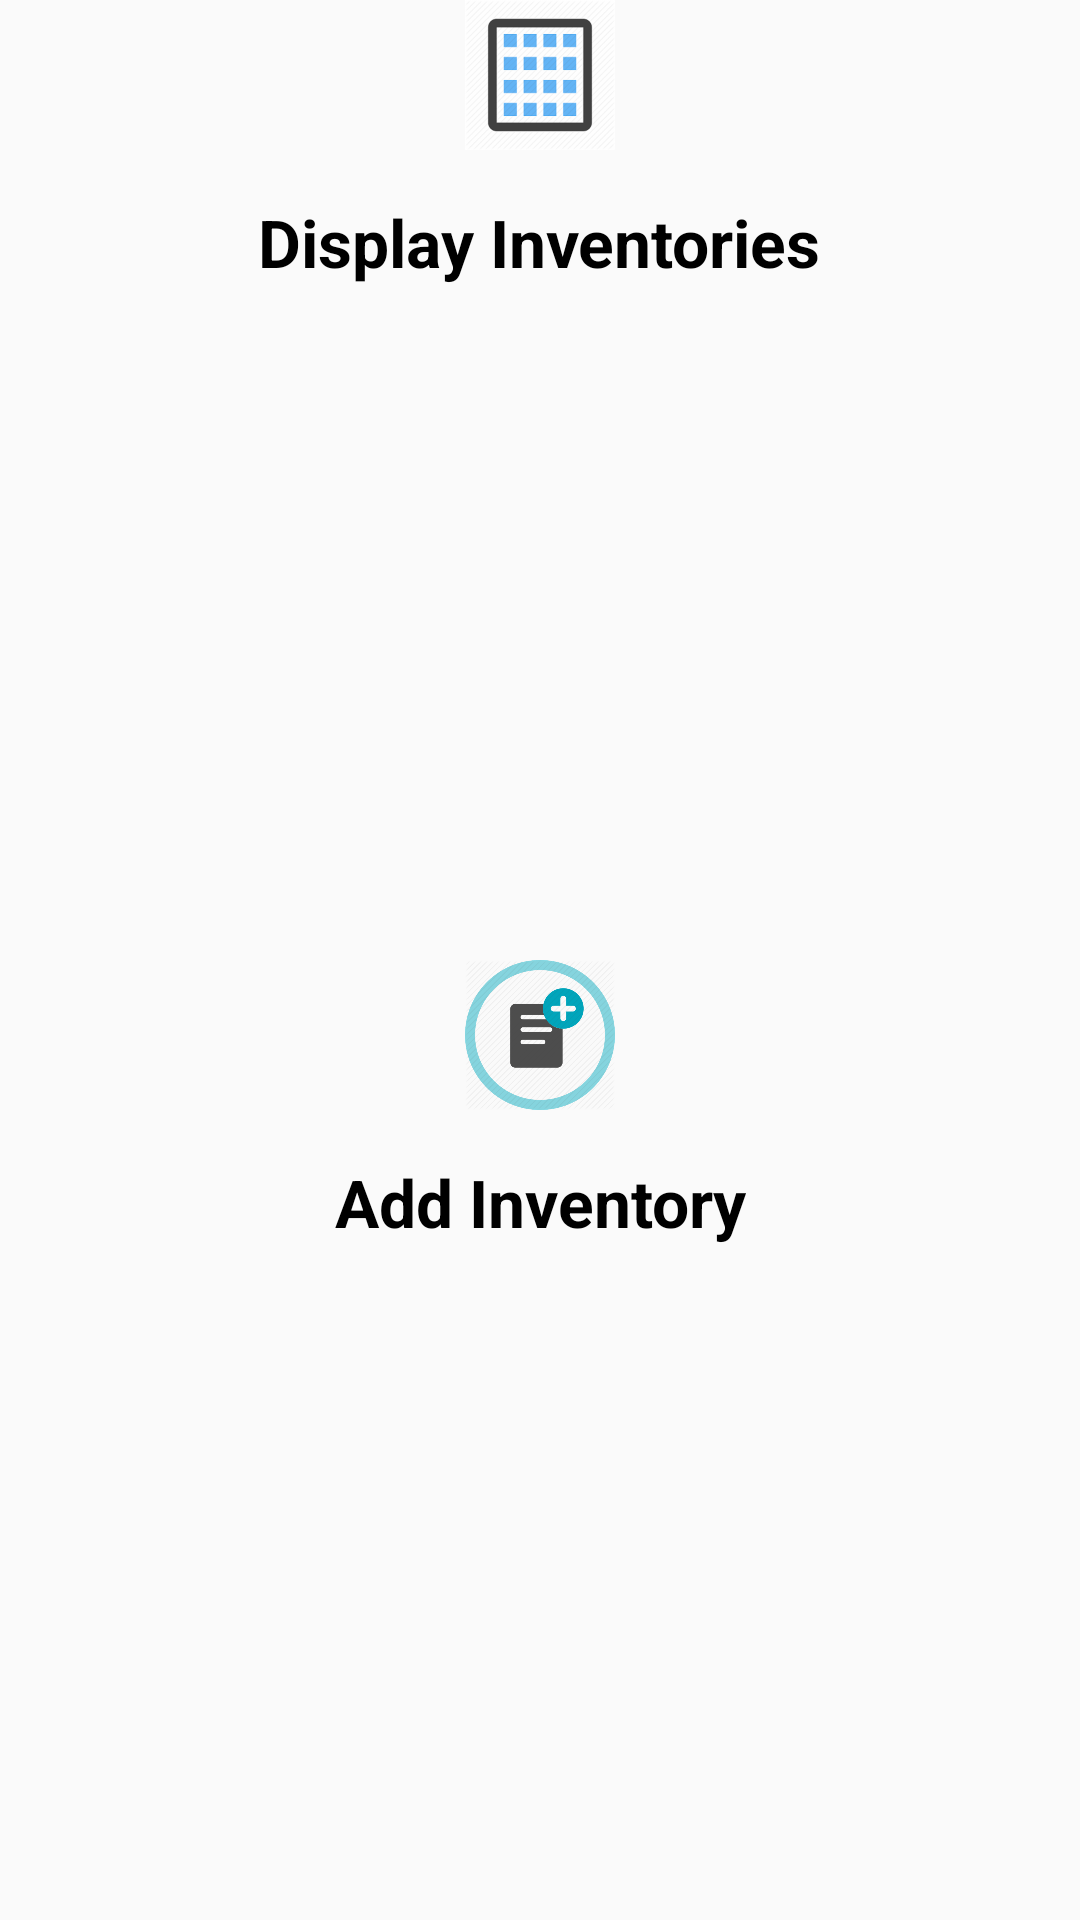

Locate icon controls on the screen. Image size 1080w x 1920h, boxes as Rect(x1, y1, x2, y2).
additem: Rect(465, 960, 615, 1110)
